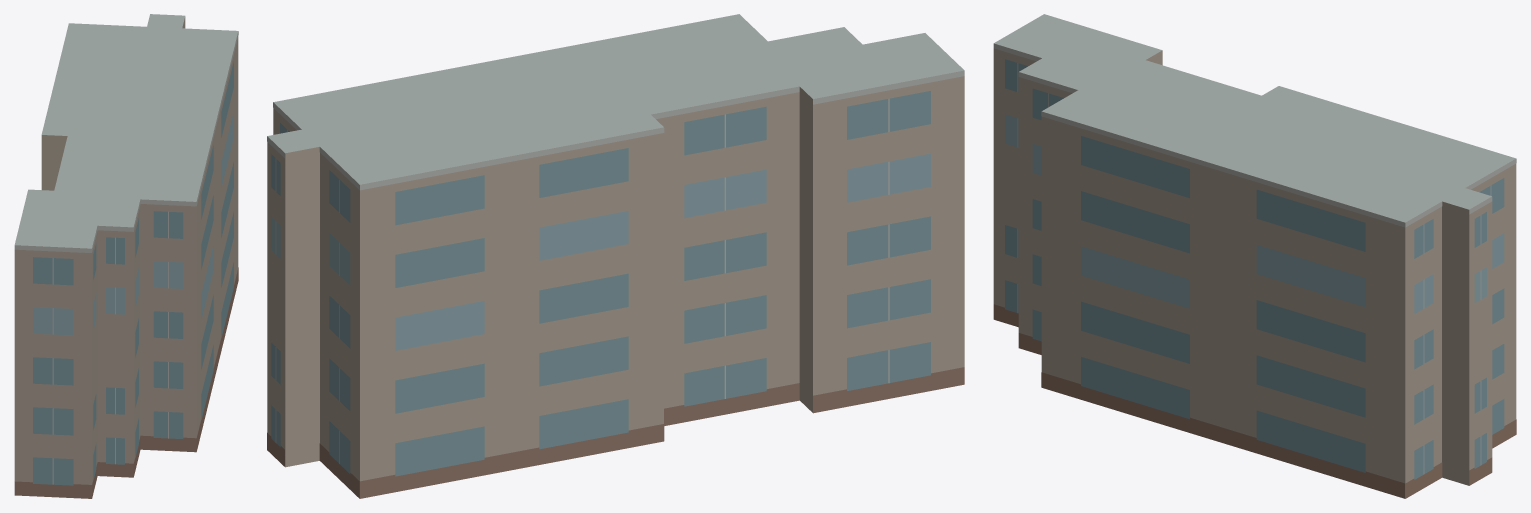
File: survey-upis-32790600.glb
3 views of the same model, side by side, from view 1: azimuth 30°, elevation 25°; view 2: azimuth 150°, elevation 25°; view 3: azimuth 270°, elevation 25° (orthographic). The views are drawn at different scales.
Visible parts, largest first — view 1: survey-upis-32790600.tmp; view 2: survey-upis-32790600.tmp; view 3: survey-upis-32790600.tmp.
Boxes of the visible parts, <box> form: survey-upis-32790600.tmp: <box>14,14,238,498</box>; survey-upis-32790600.tmp: <box>267,14,964,498</box>; survey-upis-32790600.tmp: <box>993,14,1516,498</box>.
Bounding box in the file's own units: 22.21 × 13.7 × 23.51.
